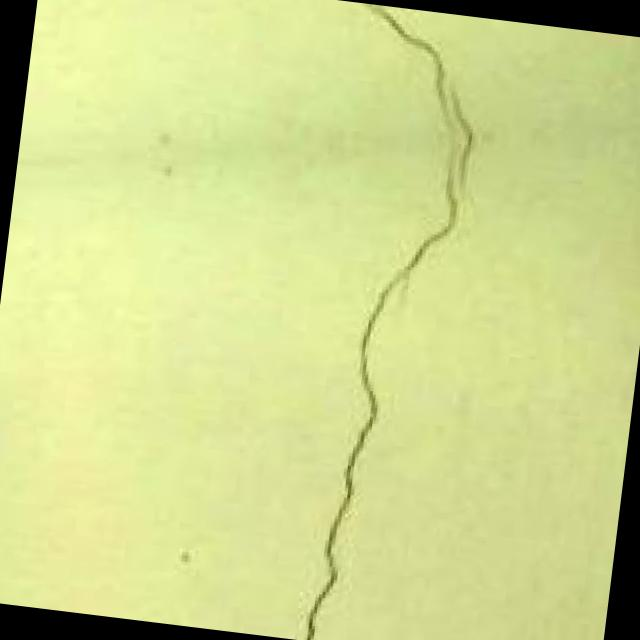crack: (230, 0, 543, 640)
